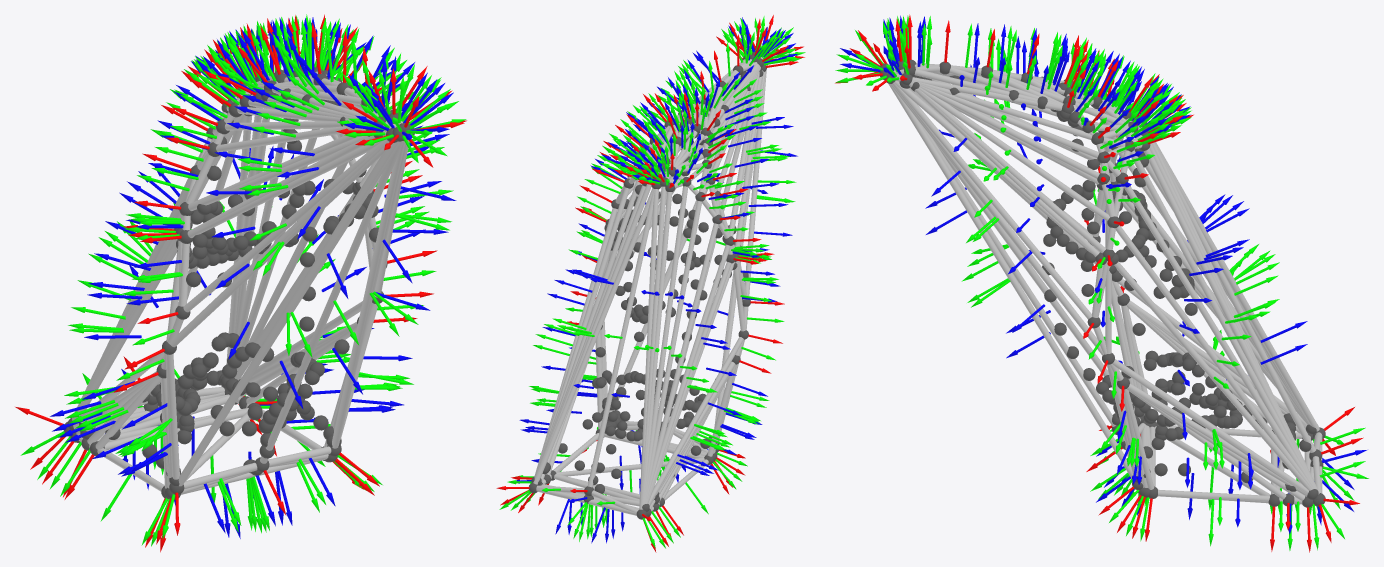
The model's file is t2f_vacuum.gltf.
The picture shows the model from 3 angles, left to right: view 1: azimuth 30°, elevation 25°; view 2: azimuth 150°, elevation 25°; view 3: azimuth 270°, elevation 25°; orthographic projection. The views are drawn at different scales.
Bounding box in the file's own units: 0.4689 × 0.8372 × 0.8192.
